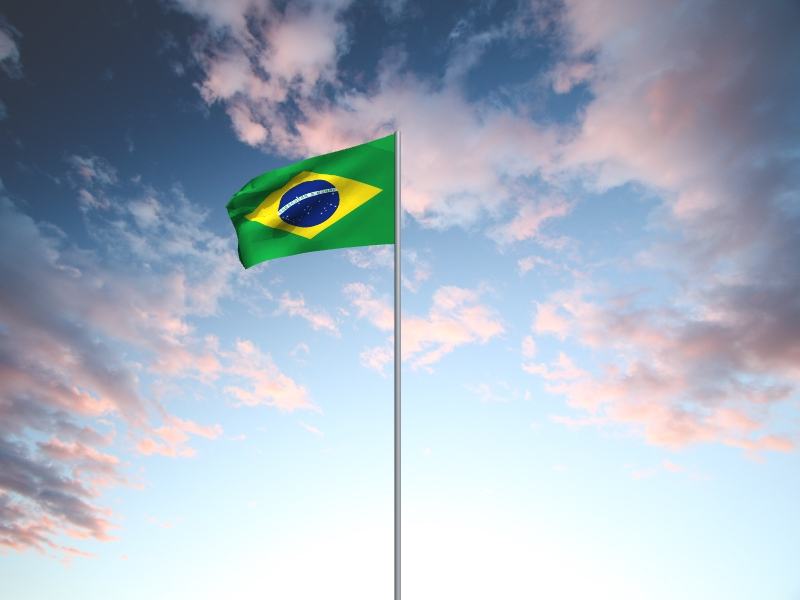br: (225, 135, 395, 271)
